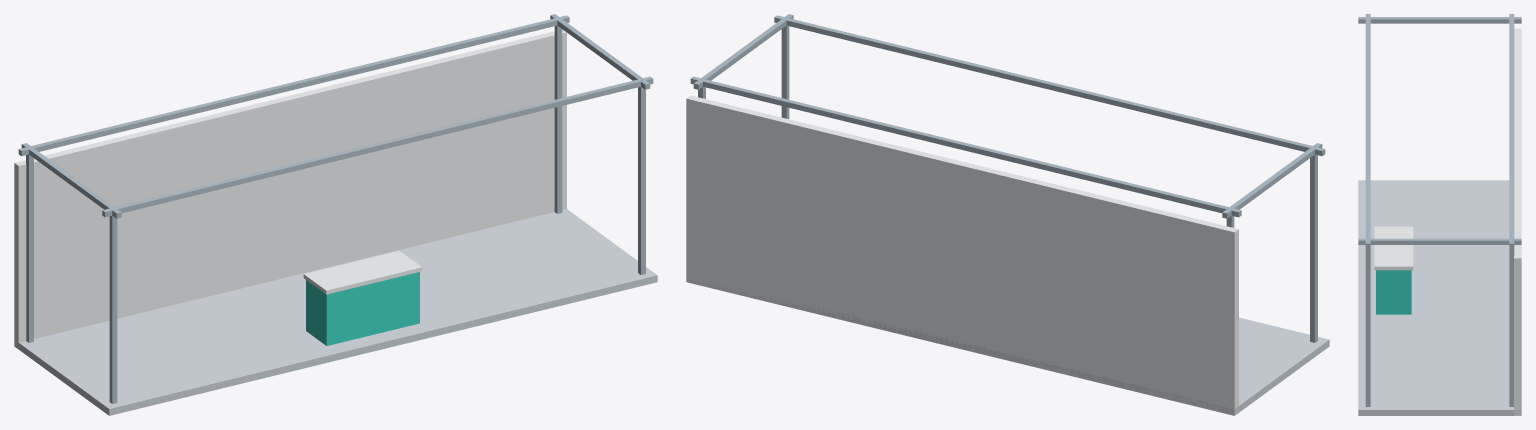
The picture shows the model from 3 angles, left to right: view 1: azimuth 30°, elevation 25°; view 2: azimuth 150°, elevation 25°; view 3: azimuth 270°, elevation 25°; orthographic projection. The views are drawn at different scales.
Parts seen in each view (by area): view 1: Exhibition Booth Concept; view 2: Exhibition Booth Concept; view 3: Exhibition Booth Concept.
Boxes of the visible parts, x1,y1,x2,y2 form: Exhibition Booth Concept: (14, 14, 657, 415); Exhibition Booth Concept: (686, 14, 1329, 415); Exhibition Booth Concept: (1358, 14, 1521, 415).
Size of the model in its own units: 10 by 3.49 by 3.
